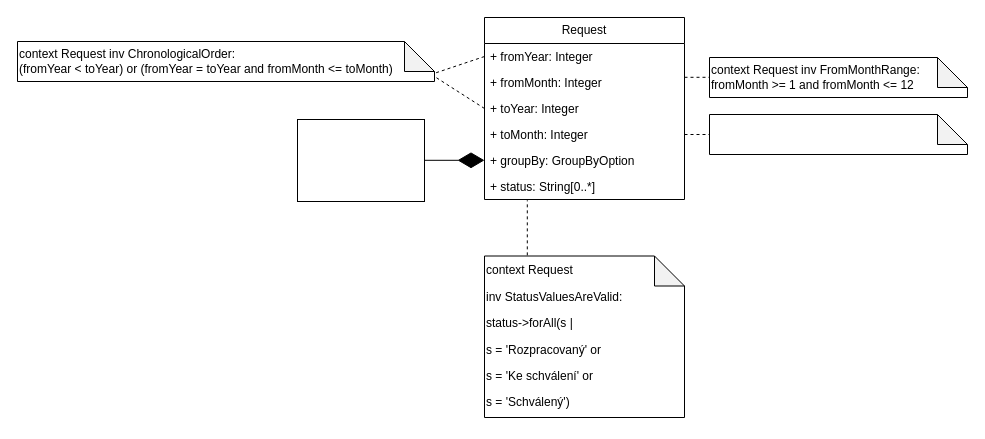
The diagram is 985 pixels wide and 439 high, and some of its shapes have lost their labels. Each missing label, with the centre of its shape:
"<<enum>> GroupByOption + Employee: 0 + Month: 1" belongs at point 360,160.
"context Request inv ToMonthRange: toMonth >= 1 and toMonth <= 12" belongs at point 838,134.
